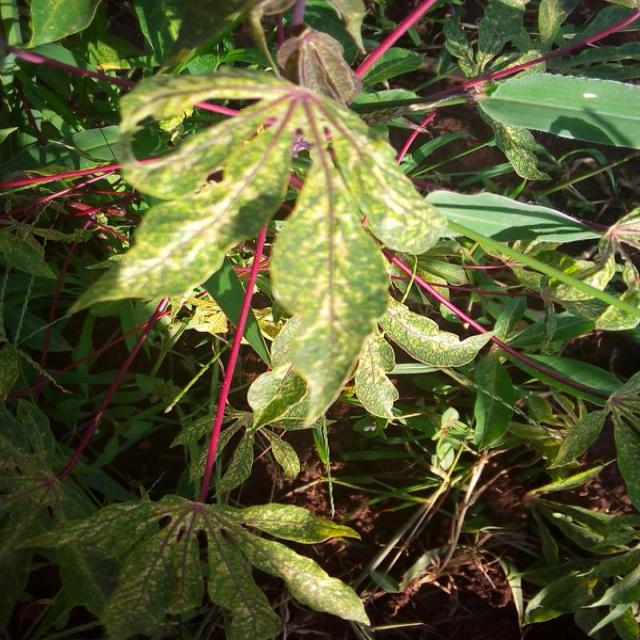cassava leaf: (70, 65, 448, 431), (267, 148, 392, 430), (478, 69, 640, 150)
